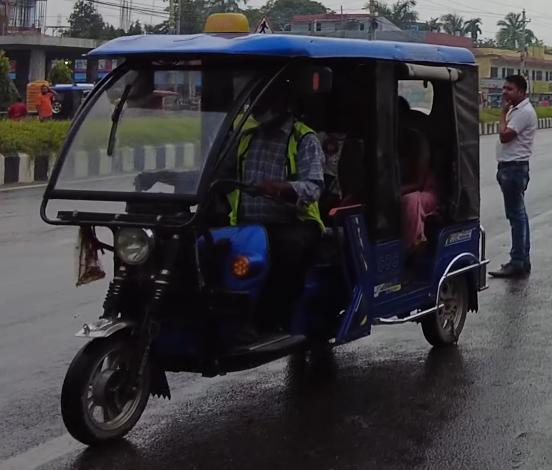e-rickshaw: (41, 15, 497, 442)
